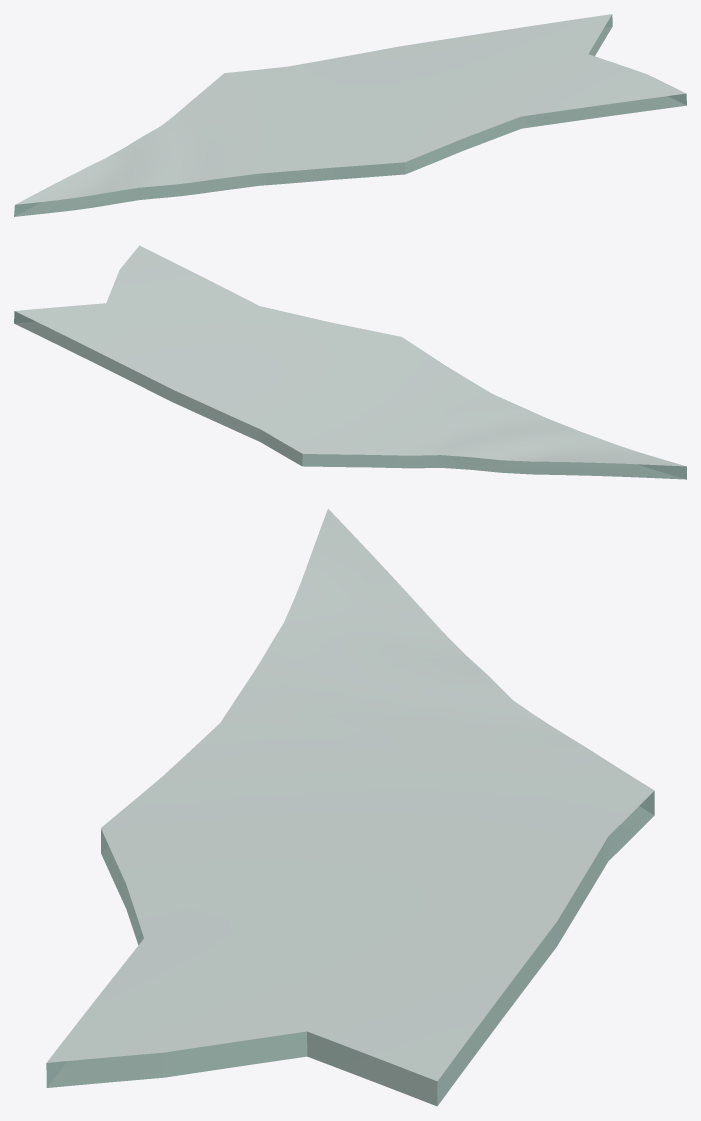
File: shard.glb
3 views of the same model, one above another, from view 1: azimuth 30°, elevation 25°; view 2: azimuth 150°, elevation 25°; view 3: azimuth 270°, elevation 25° (orthographic). The views are drawn at different scales.
Parts seen in each view (by area): view 1: Shard; view 2: Shard; view 3: Shard.
Part boxes in pixels (x1,y1,x2,y2): Shard: [14, 14, 686, 216]; Shard: [14, 245, 686, 479]; Shard: [46, 509, 654, 1106].
Bounding box in the file's own units: 0.1331 × 0.00702 × 0.056.
